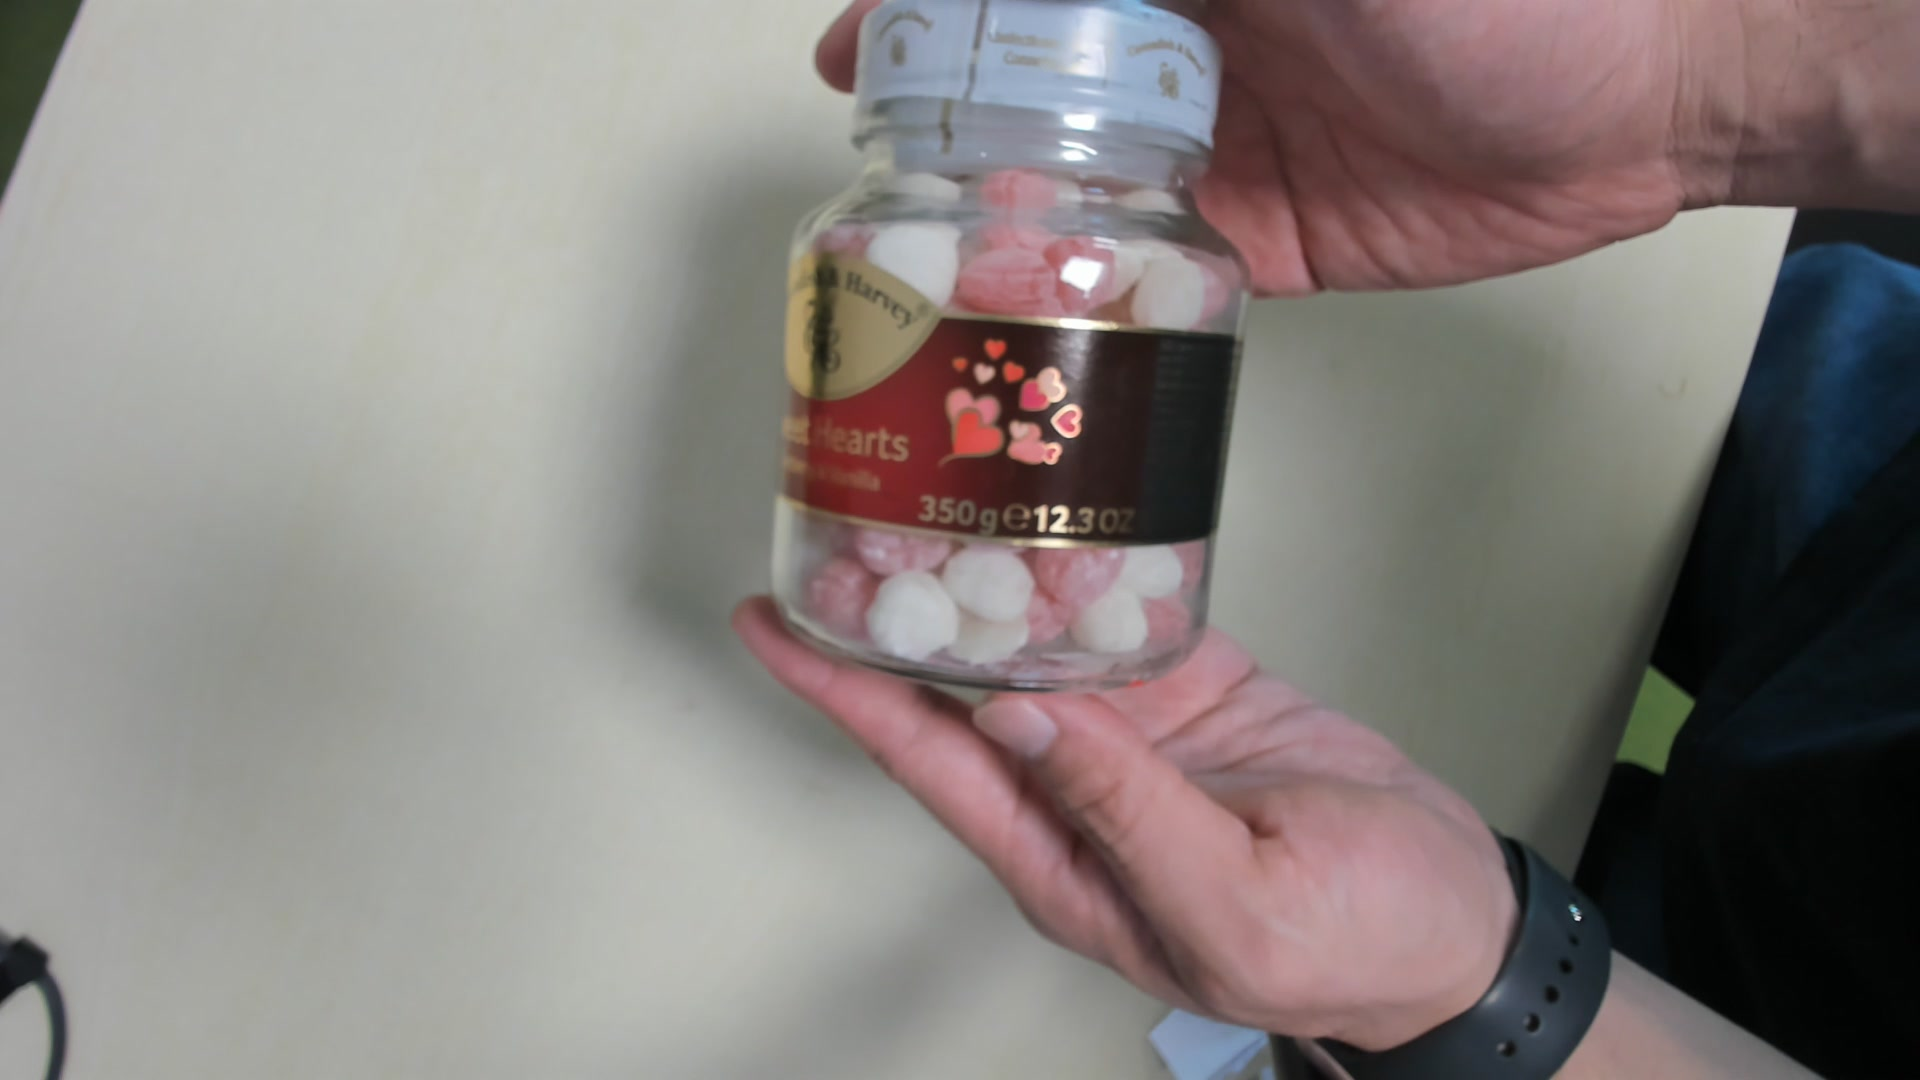SweetsChocolatesOthers_300-399g_NonHalal_Nonhealthy: (779, 3, 1255, 695)
